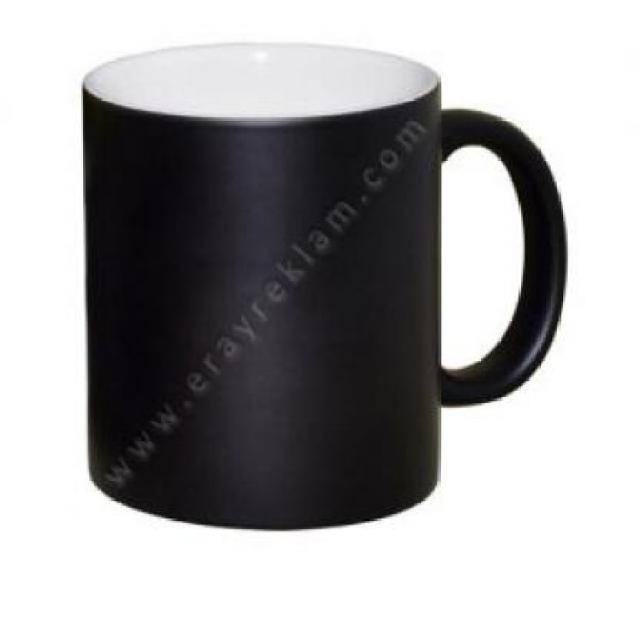taza: (84, 41, 568, 533)
